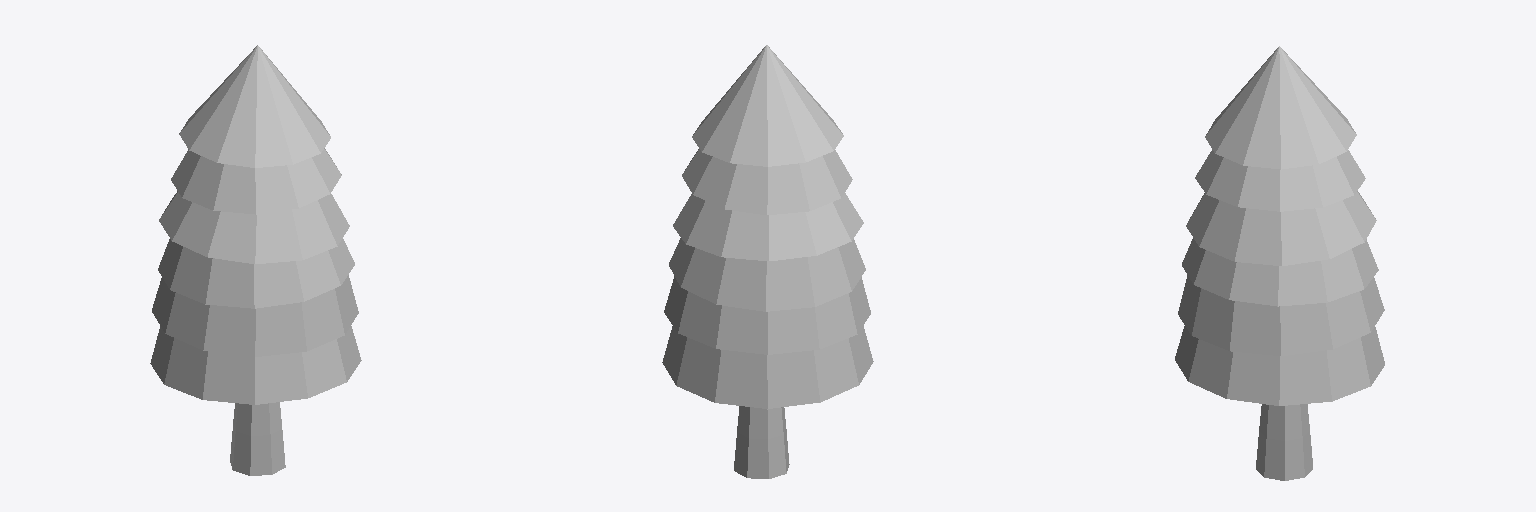
The model's file is Tree3.3.obj.
3 views of the same model, side by side, from view 1: azimuth 30°, elevation 25°; view 2: azimuth 150°, elevation 25°; view 3: azimuth 270°, elevation 25° (orthographic).
Visible parts, largest first — view 1: Leafs3.3_Cylinder.002, Trunk3.3_Cylinder.001; view 2: Leafs3.3_Cylinder.002, Trunk3.3_Cylinder.001; view 3: Leafs3.3_Cylinder.002, Trunk3.3_Cylinder.001.
Boxes of the visible parts, x1,y1,x2,y2 form: Leafs3.3_Cylinder.002: [150, 45, 361, 404]; Trunk3.3_Cylinder.001: [230, 402, 285, 475]; Leafs3.3_Cylinder.002: [662, 45, 873, 408]; Trunk3.3_Cylinder.001: [734, 406, 789, 478]; Leafs3.3_Cylinder.002: [1175, 46, 1384, 405]; Trunk3.3_Cylinder.001: [1256, 404, 1312, 480].
Size of the model in its own units: 3.21 by 7.06 by 3.2.